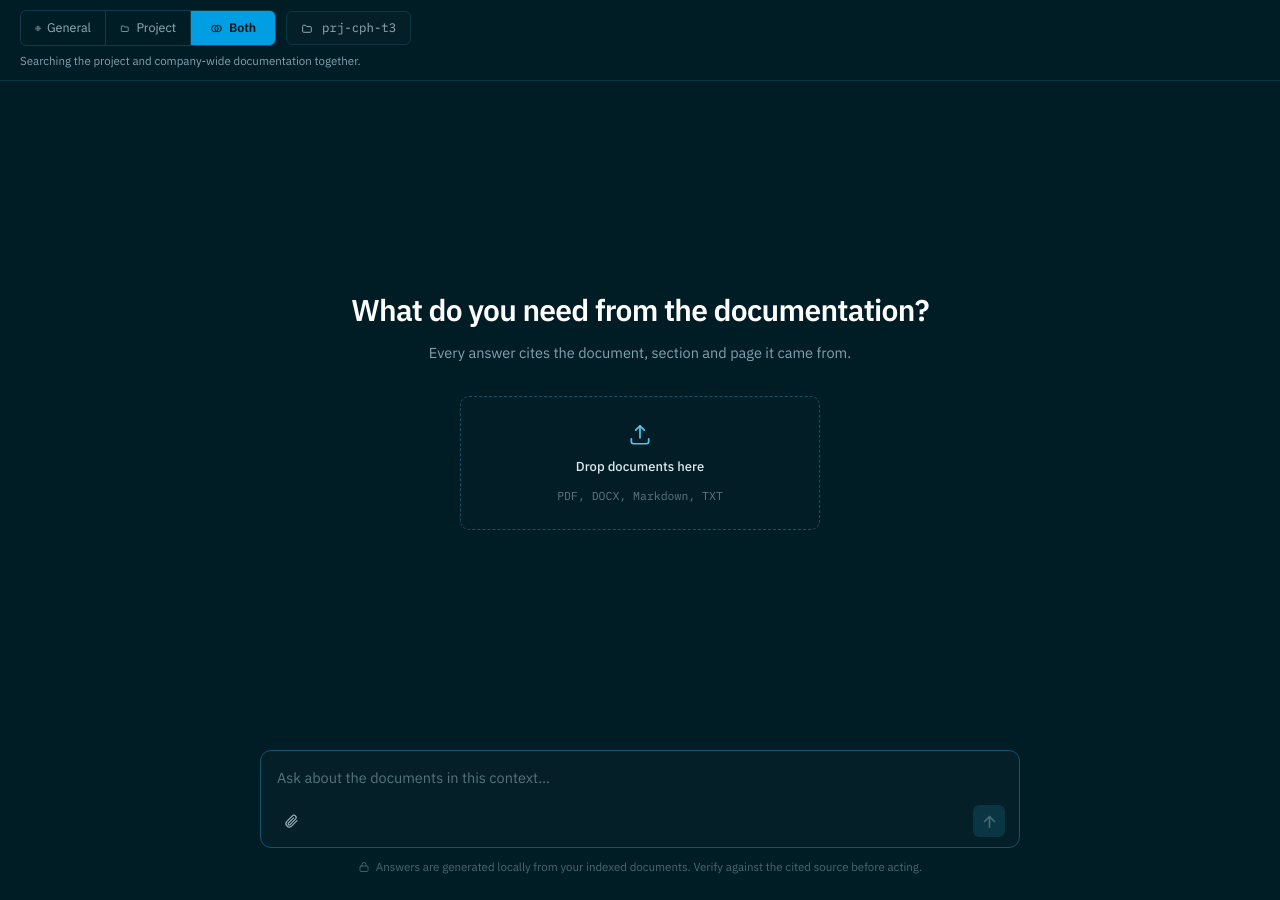
Test case: ChatPage › changes retrieval scope from inside the chat in one click
// The scope control is always on screen — no popover to open first.
Click the radio button labelled "General". click: (63, 28)
box: [21,11,105,45]
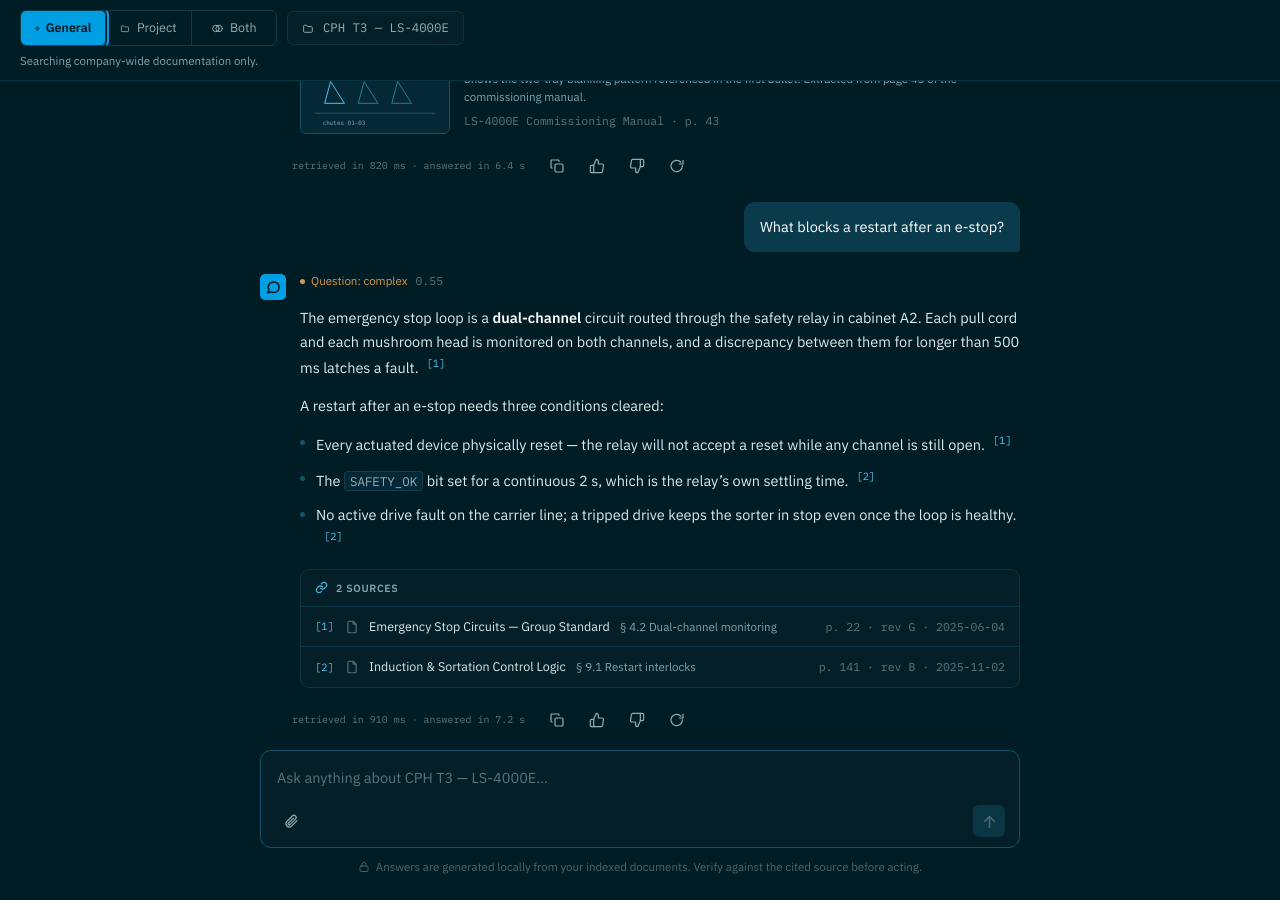
Check: the text "Searching company-wide documentation only." is shown, box [20,53,258,68]
